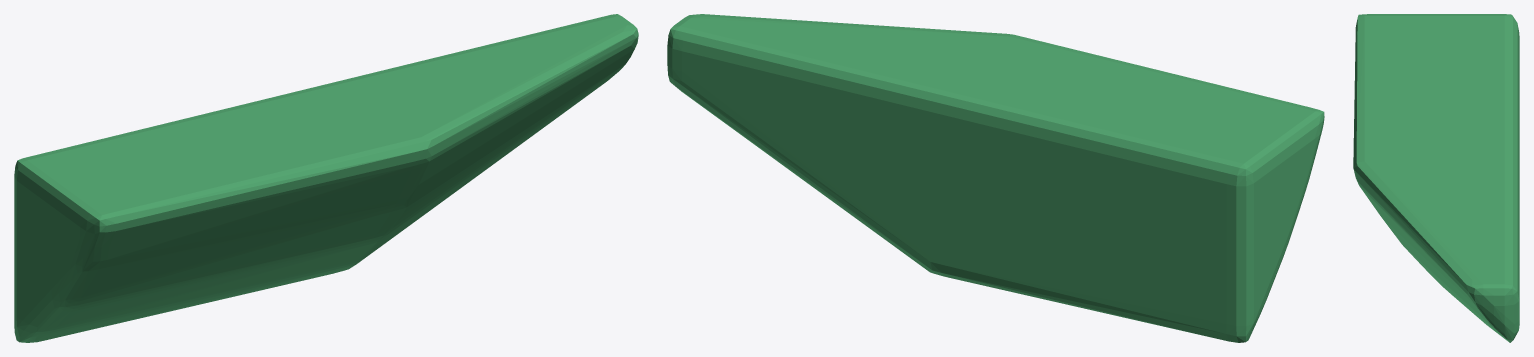
Rendered from right_shoulder_pitch_link_part_3.obj.
The picture shows the model from 3 angles, left to right: view 1: azimuth 30°, elevation 25°; view 2: azimuth 150°, elevation 25°; view 3: azimuth 270°, elevation 25°; orthographic projection. The views are drawn at different scales.
Bounding box in the file's own units: 0.0581 × 0.0174 × 0.0147.
